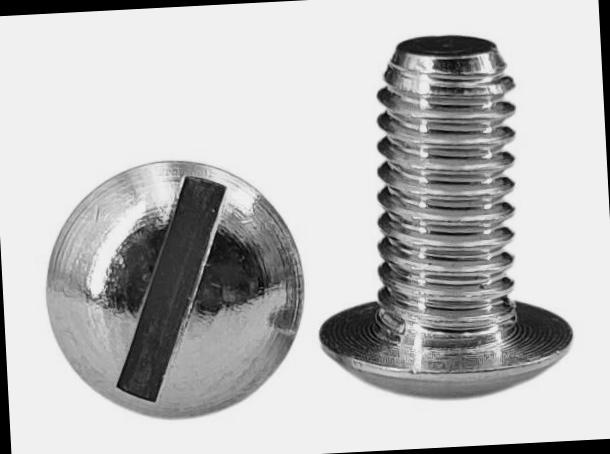slotted: (36, 147, 317, 428)
